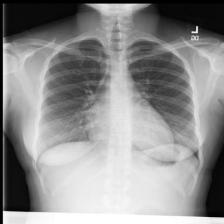normal: (33, 34, 205, 171)
